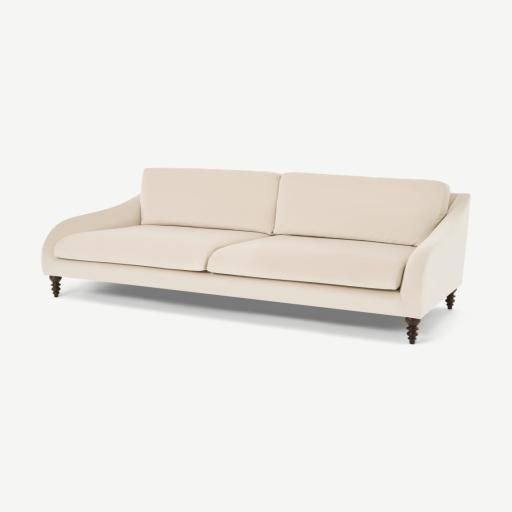back_cushion: (141, 169, 448, 246)
base: (48, 259, 408, 316)
left_arm: (400, 194, 470, 318)
legs: (406, 318, 420, 344), (49, 275, 62, 297), (446, 290, 455, 309)
right_arm: (42, 195, 139, 274)
seat_cushion: (53, 225, 415, 291)
two-seater: (0, 0, 511, 512)
